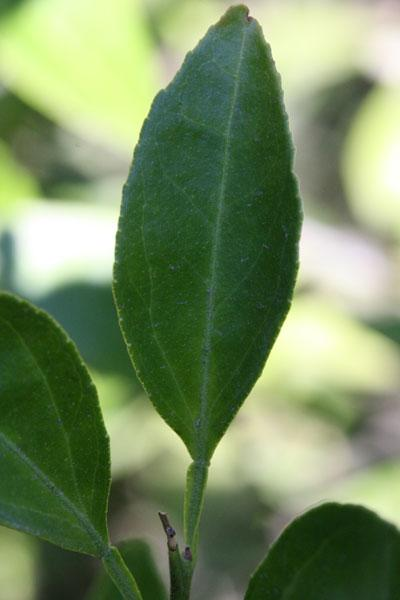Healthy Citrus: (117, 2, 301, 454), (0, 295, 108, 549), (253, 503, 400, 600)
